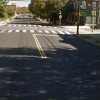crosswalk: (0, 29, 69, 35), (7, 22, 58, 28)
